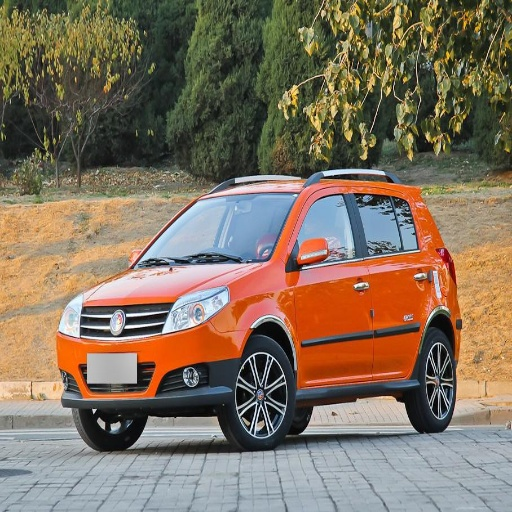front_bumper: (56, 300, 249, 416)
front_glass: (135, 195, 297, 266)
front_left_door: (287, 187, 373, 383)
